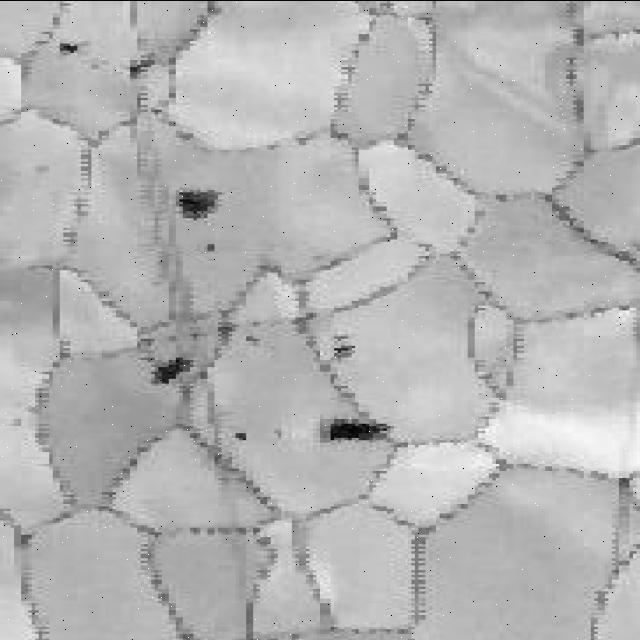good_void: (315, 412, 398, 445), (172, 181, 226, 224), (153, 354, 197, 386), (329, 329, 361, 365), (127, 54, 162, 78), (55, 35, 87, 54), (242, 332, 264, 347), (233, 429, 251, 440), (204, 239, 219, 250)
